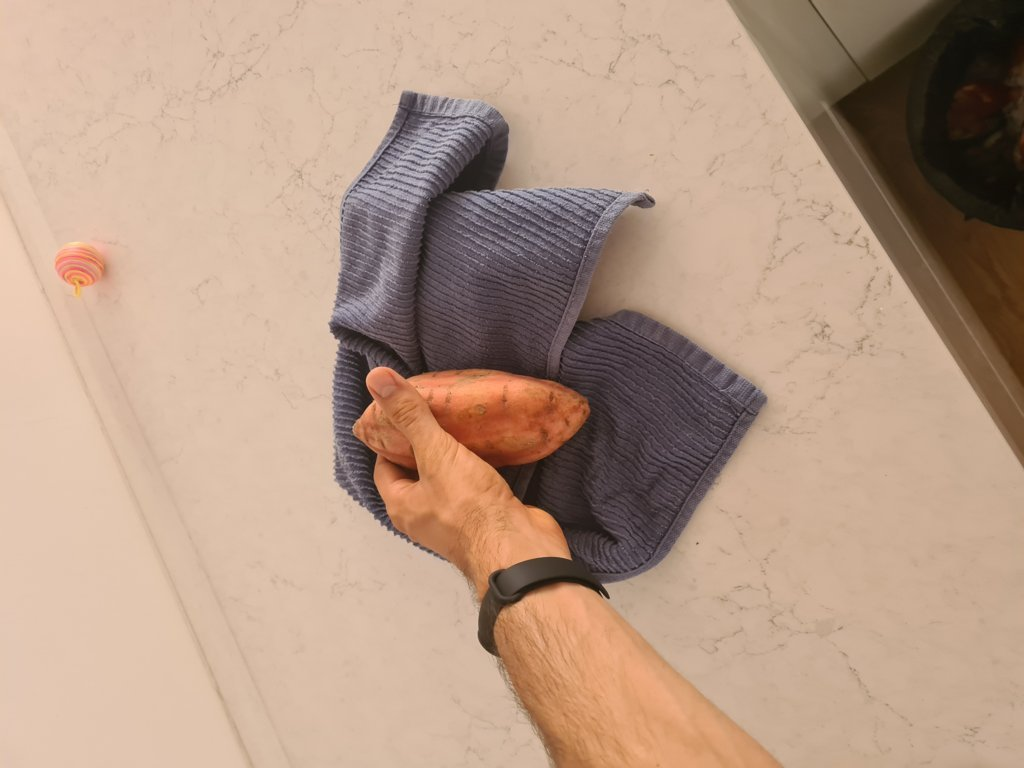Sweet Potatow: (355, 366, 586, 476)
